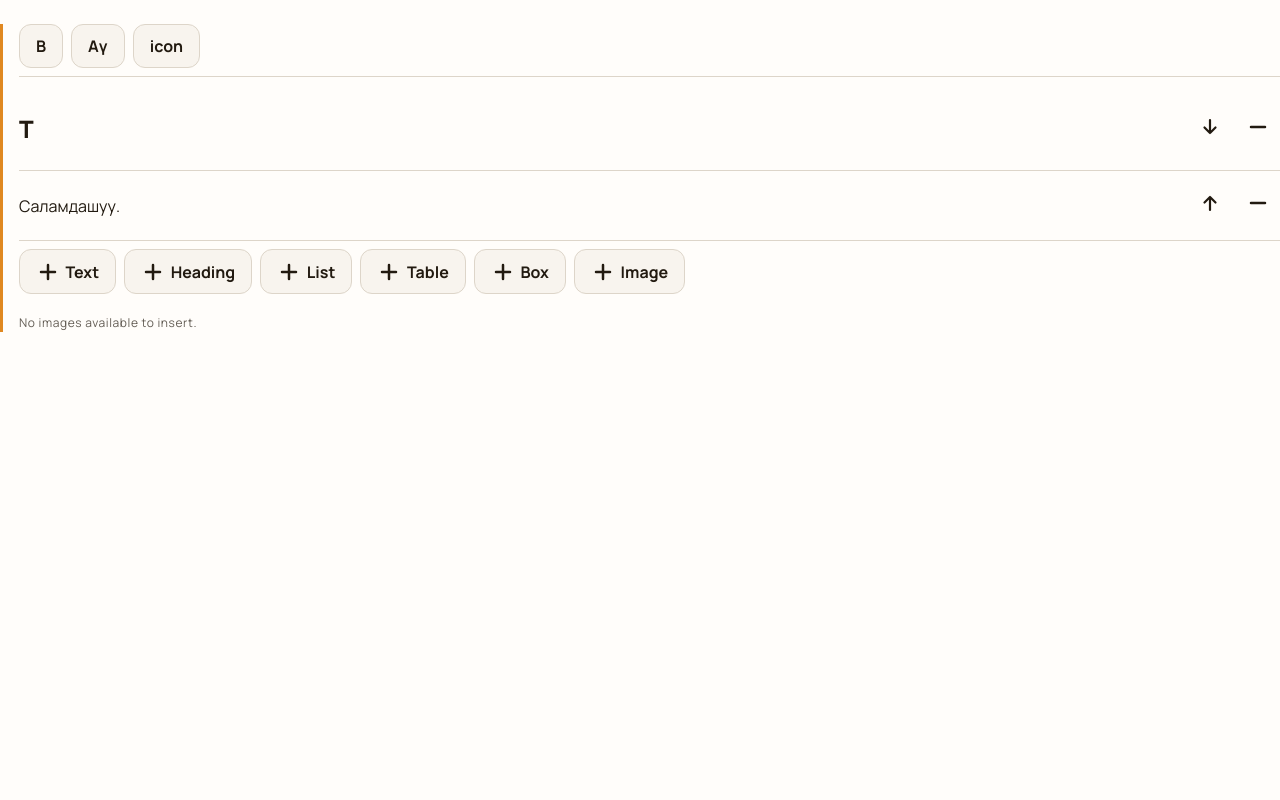
NoteEditor - lexicon sheet (spec 0021-3) › readout: prefix match, not exact — the case this slice exists for
Click the button with aria-label "Edit this text": x=70, y=206 [19,195,120,217]
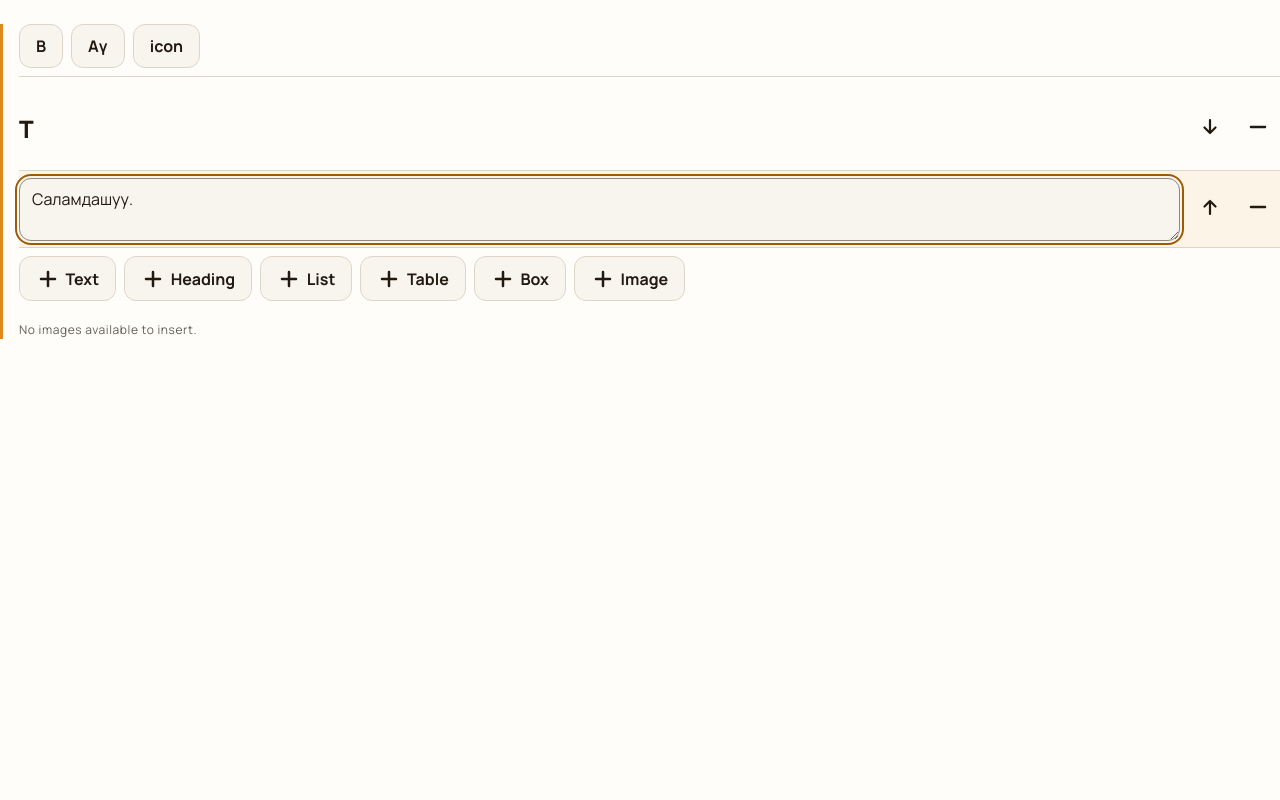
Click the button "Аү": x=98, y=46 [71,24,125,68]
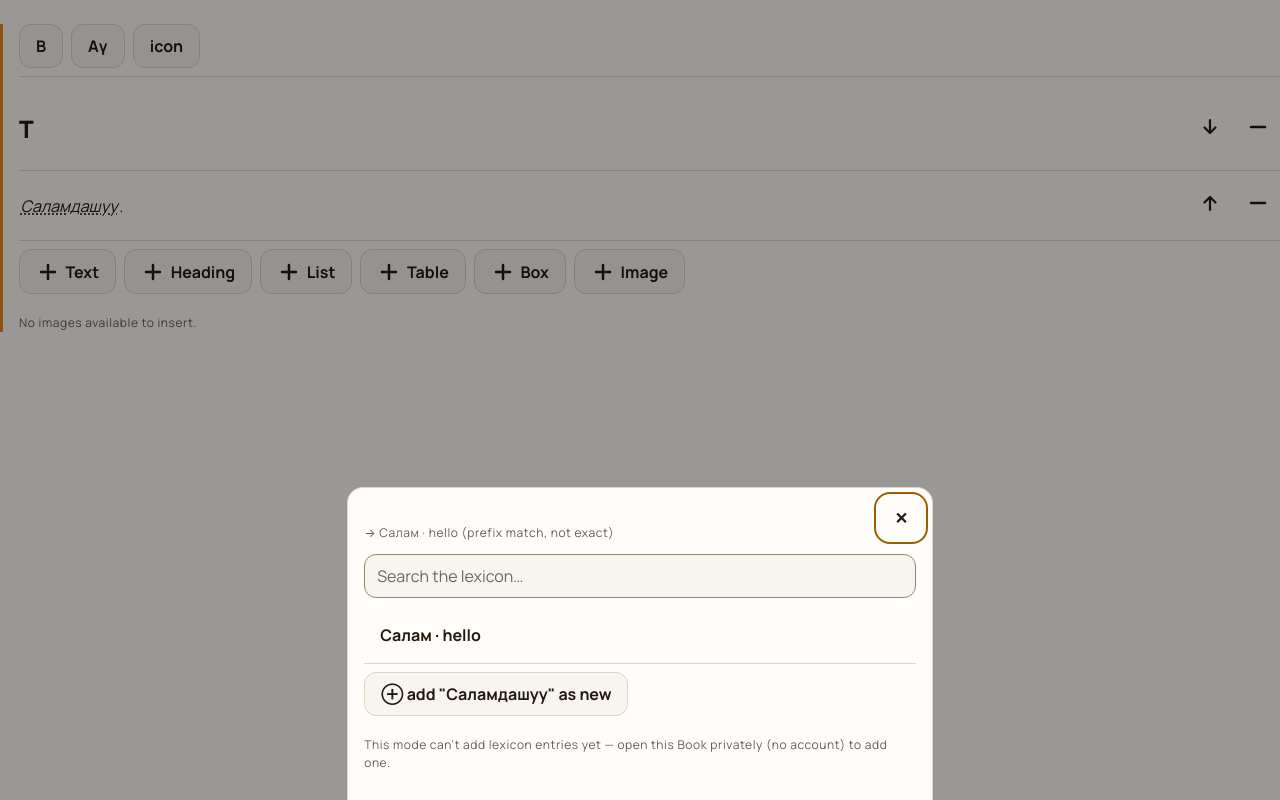
Expected: the text "→ Салам · hello (prefix match, not exact)" is shown, [364,524,614,541]
